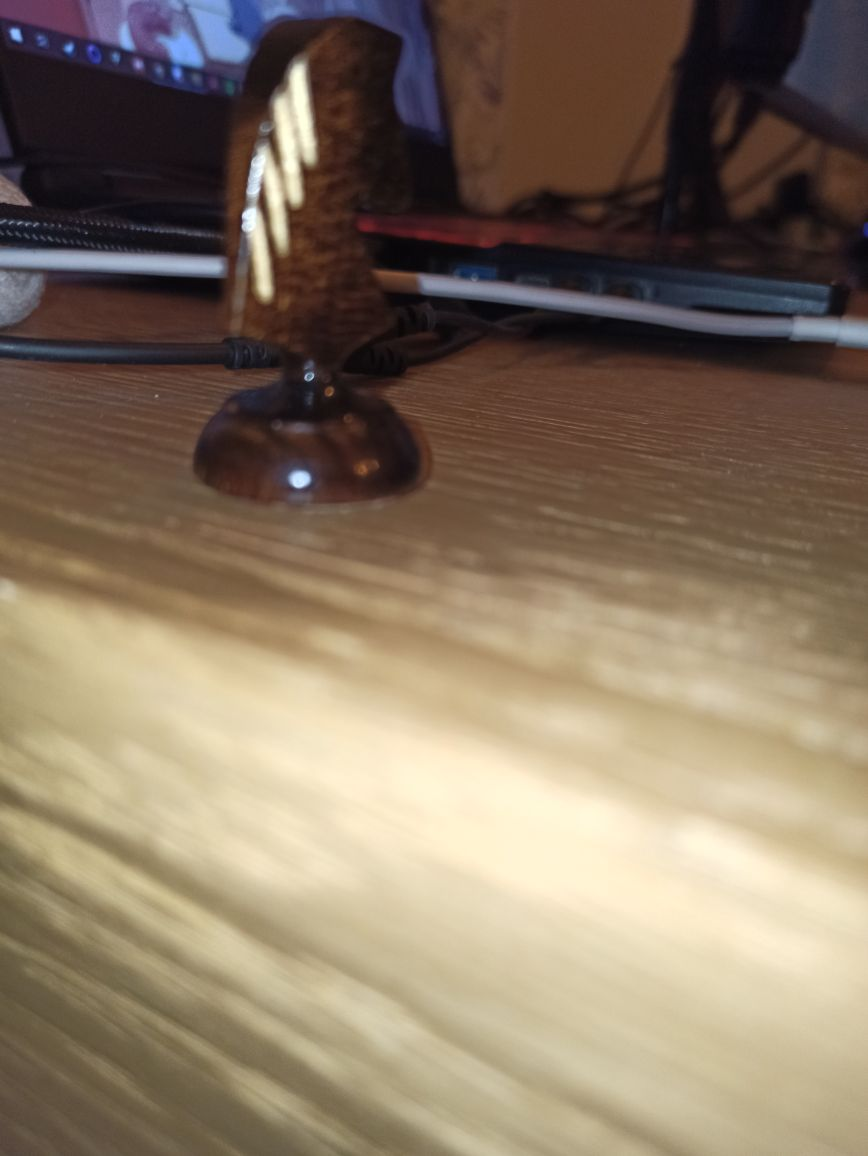bknight: (184, 14, 432, 514)
